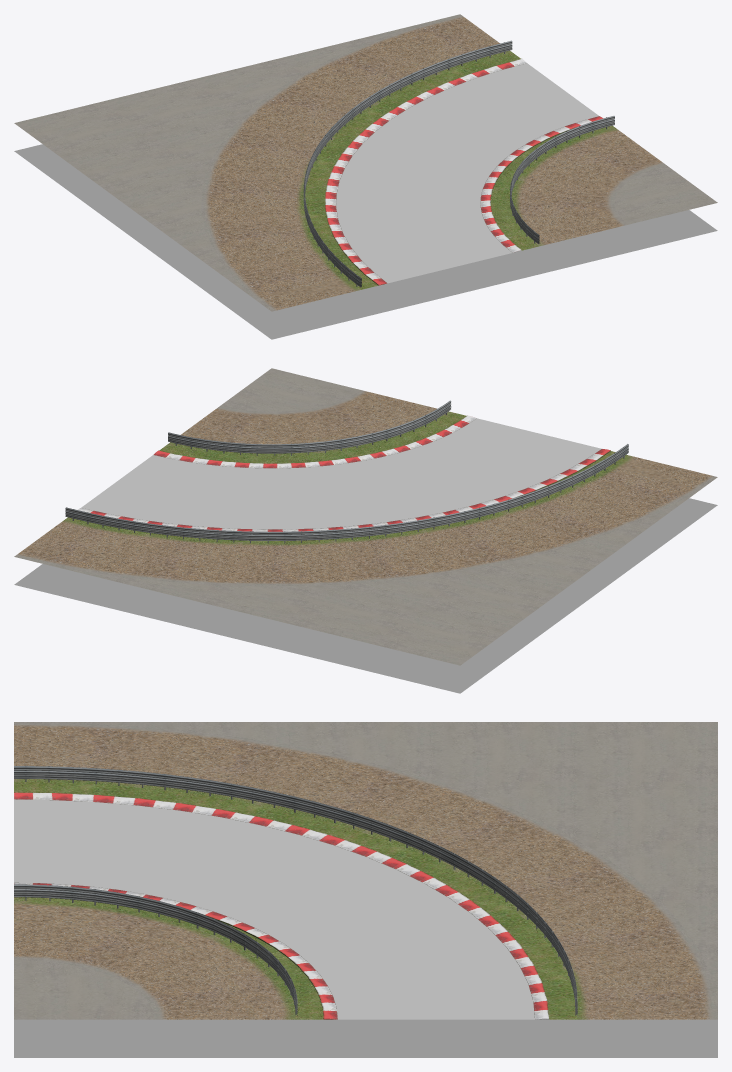
File: Track_Curve_A_Gravel.fbx
The picture shows the model from 3 angles, top to bottom: view 1: azimuth 30°, elevation 25°; view 2: azimuth 150°, elevation 25°; view 3: azimuth 270°, elevation 25°; orthographic projection. The views are drawn at different scales.
Parts seen in each view (by area): view 1: Gravel_A, Road, Concrete_A, Snap_Plane_Invisible, Gravel_B, Grass, Concrete_B, Curb_A, Rail_A, Curb_B, Rail_B; view 2: Gravel_A, Road, Concrete_A, Snap_Plane_Invisible, Gravel_B, Rail_A, Grass, Concrete_B, Rail_B, Curb_A, Curb_B; view 3: Road, Gravel_A, Concrete_A, Snap_Plane_Invisible, Gravel_B, Grass, Rail_A, Concrete_B, Curb_A, Rail_B, Curb_B.
Part boxes in pixels (left/top/right/bottom): Gravel_A: left=201, top=14, right=511, bottom=311; Road: left=336, top=63, right=598, bottom=283; Concrete_A: left=14, top=16, right=452, bottom=308; Snap_Plane_Invisible: left=14, top=144, right=717, bottom=339; Gravel_B: left=512, top=127, right=665, bottom=246; Grass: left=305, top=52, right=614, bottom=289; Concrete_B: left=615, top=165, right=717, bottom=224; Curb_A: left=325, top=59, right=526, bottom=285; Rail_A: left=303, top=40, right=512, bottom=287; Curb_B: left=480, top=116, right=603, bottom=252; Rail_B: left=510, top=116, right=614, bottom=243; Gravel_A: left=14, top=455, right=717, bottom=586; Road: left=81, top=418, right=601, bottom=529; Concrete_A: left=19, top=480, right=713, bottom=665; Snap_Plane_Invisible: left=14, top=498, right=717, bottom=693; Gravel_B: left=169, top=390, right=449, bottom=455; Rail_A: left=65, top=444, right=628, bottom=543; Grass: left=66, top=412, right=627, bottom=542; Concrete_B: left=220, top=368, right=360, bottom=411; Rail_B: left=168, top=400, right=451, bottom=455; Curb_A: left=77, top=449, right=610, bottom=531; Curb_B: left=153, top=415, right=476, bottom=468; Road: left=14, top=799, right=534, bottom=1019; Gravel_A: left=14, top=722, right=717, bottom=1019; Concrete_A: left=18, top=722, right=717, bottom=1017; Snap_Plane_Invisible: left=14, top=1019, right=717, bottom=1057; Gravel_B: left=14, top=900, right=295, bottom=1019; Grass: left=14, top=781, right=576, bottom=1019; Rail_A: left=14, top=765, right=577, bottom=1015; Concrete_B: left=14, top=960, right=154, bottom=1019; Curb_A: left=14, top=792, right=549, bottom=1019; Rail_B: left=14, top=884, right=297, bottom=1015; Curb_B: left=14, top=882, right=337, bottom=1019.
Bounding box in the file's own units: 50 × 4.24 × 50.01.
